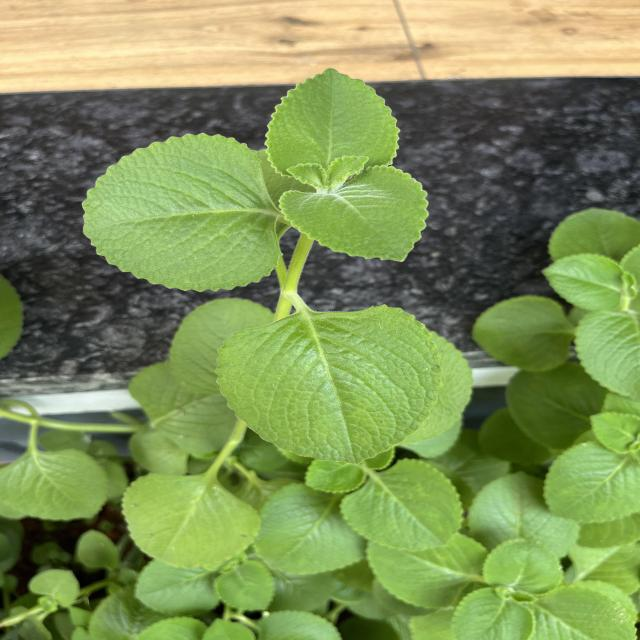Plectranthus barbatus: (212, 302, 443, 466), (80, 132, 284, 294), (263, 66, 403, 178), (278, 164, 430, 264), (119, 471, 262, 570), (338, 457, 466, 552), (256, 481, 366, 576), (364, 532, 488, 609), (469, 293, 574, 374), (540, 439, 640, 523), (481, 537, 565, 595), (449, 586, 536, 640)
